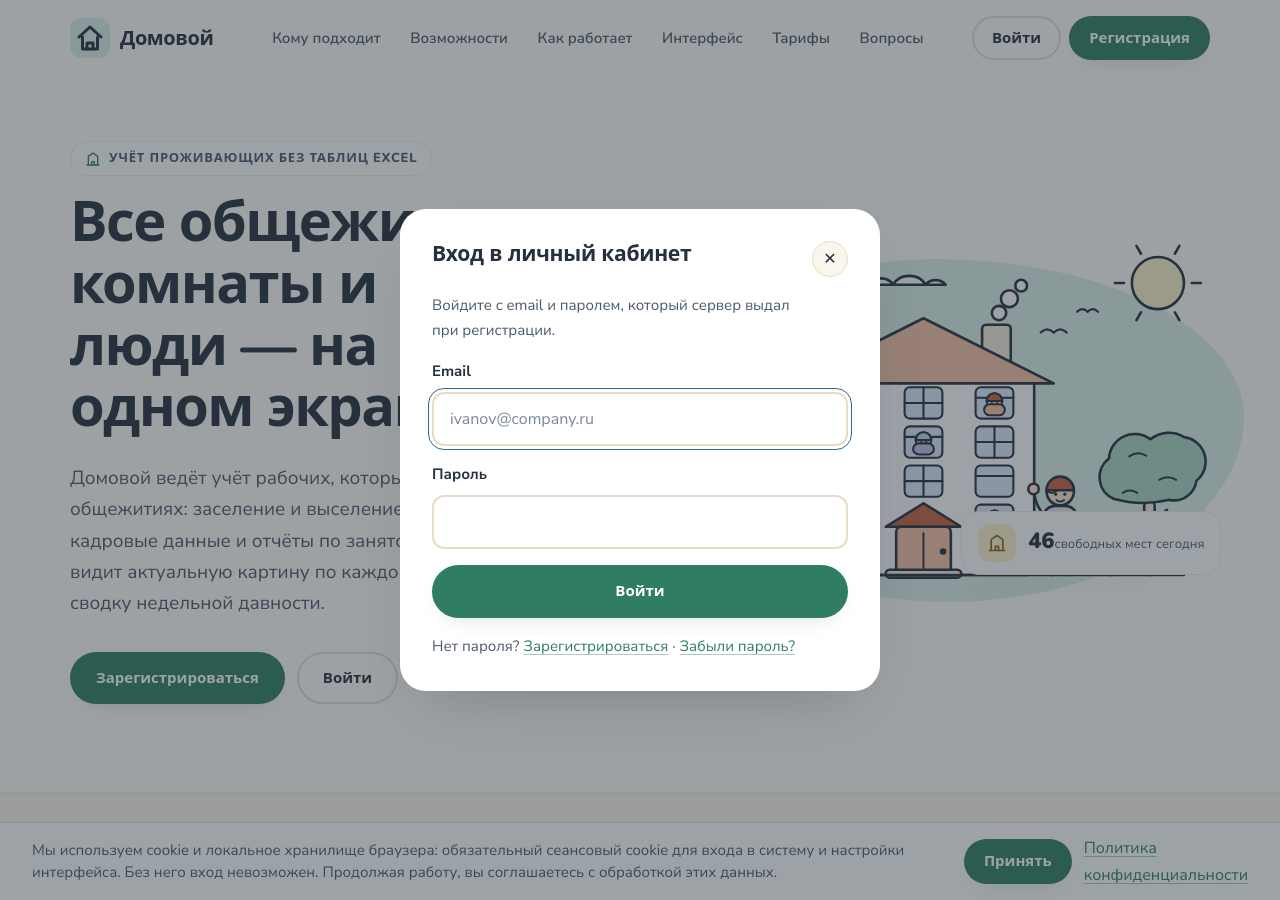
Scenario: страница входа › на неверный пароль показывает один и тот же текст
Type "worker@example.com" into the field with test id "login-email".
click(640, 419); type("worker@example.com")  # box [432,392,848,446]
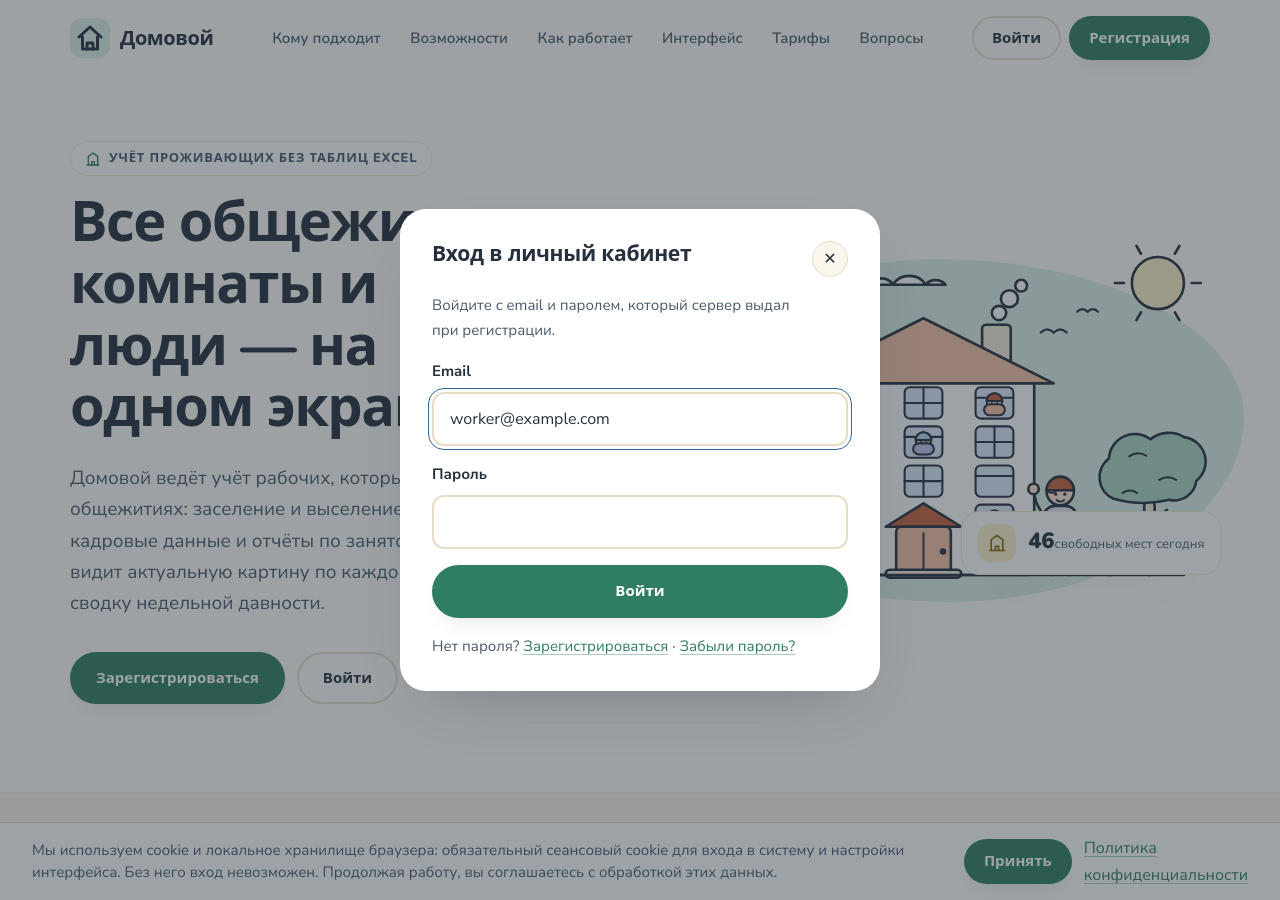
Type "неверный" into the password field with test id "login-password".
click(640, 522); type("неверный")  # box [432,495,848,549]
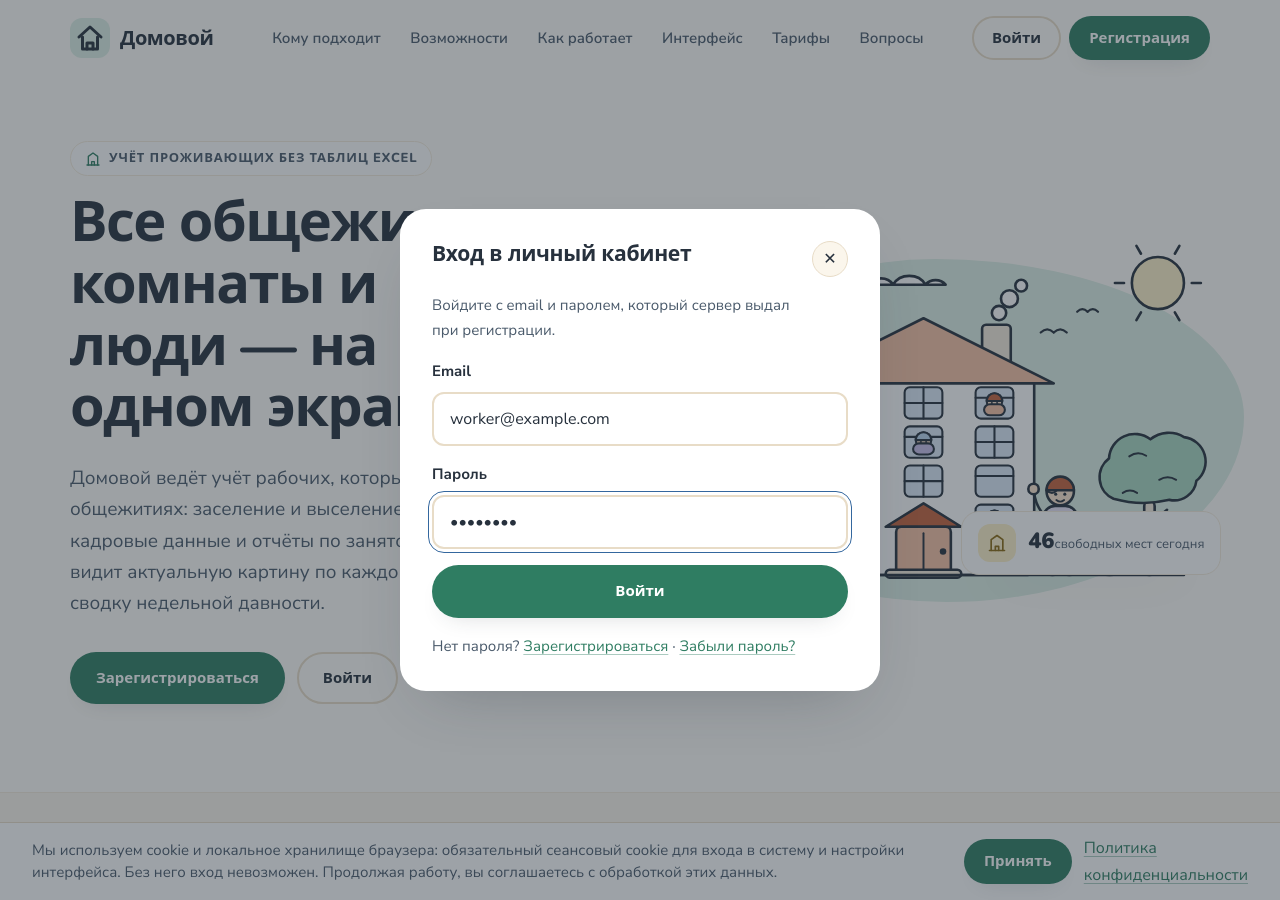
Click the button with test id "login-submit".
click(640, 592)  # box [432,565,848,618]
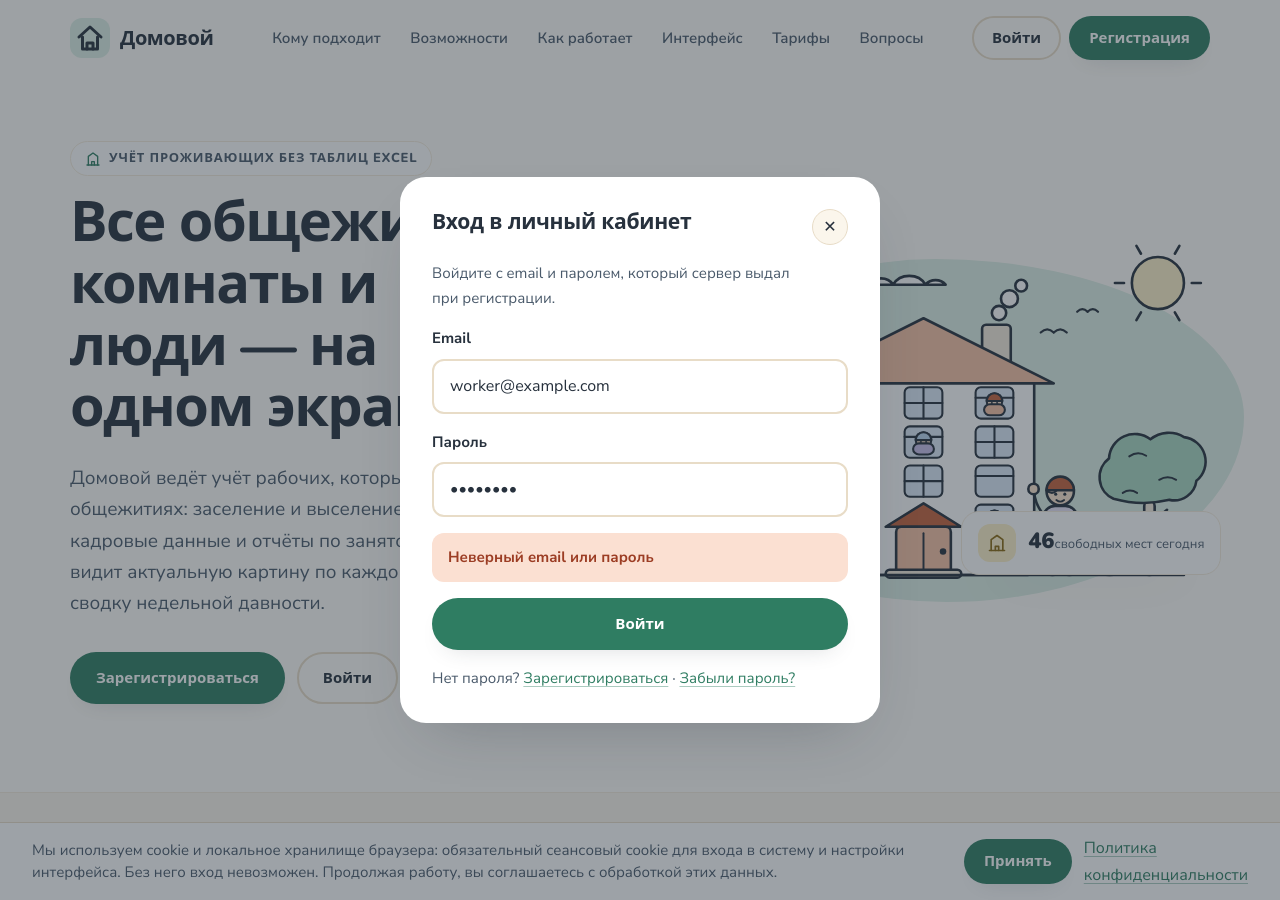
Now the message with test id "login-error" reads "Неверный email или пароль", box [448,547,654,567]
